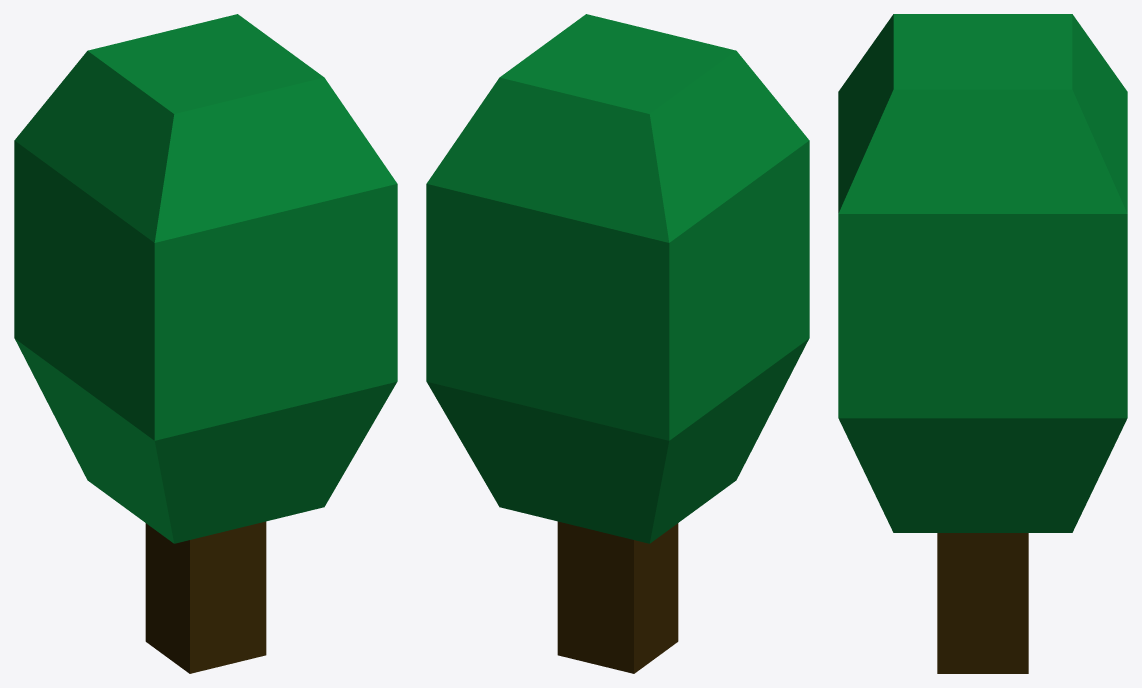
The model's file is Arbol1.fbx.
3 renders of one model, left to right at view 1: azimuth 30°, elevation 25°; view 2: azimuth 150°, elevation 25°; view 3: azimuth 270°, elevation 25°, orthographic. The views are drawn at different scales.
Parts seen in each view (by area): view 1: Arbol2; view 2: Arbol2; view 3: Arbol2.
Part boxes in pixels (<box>): Arbol2: <box>14,14,397,673</box>; Arbol2: <box>426,14,809,673</box>; Arbol2: <box>838,14,1127,673</box>.
Size of the model in its own units: 8.08 by 18.59 by 8.08.
